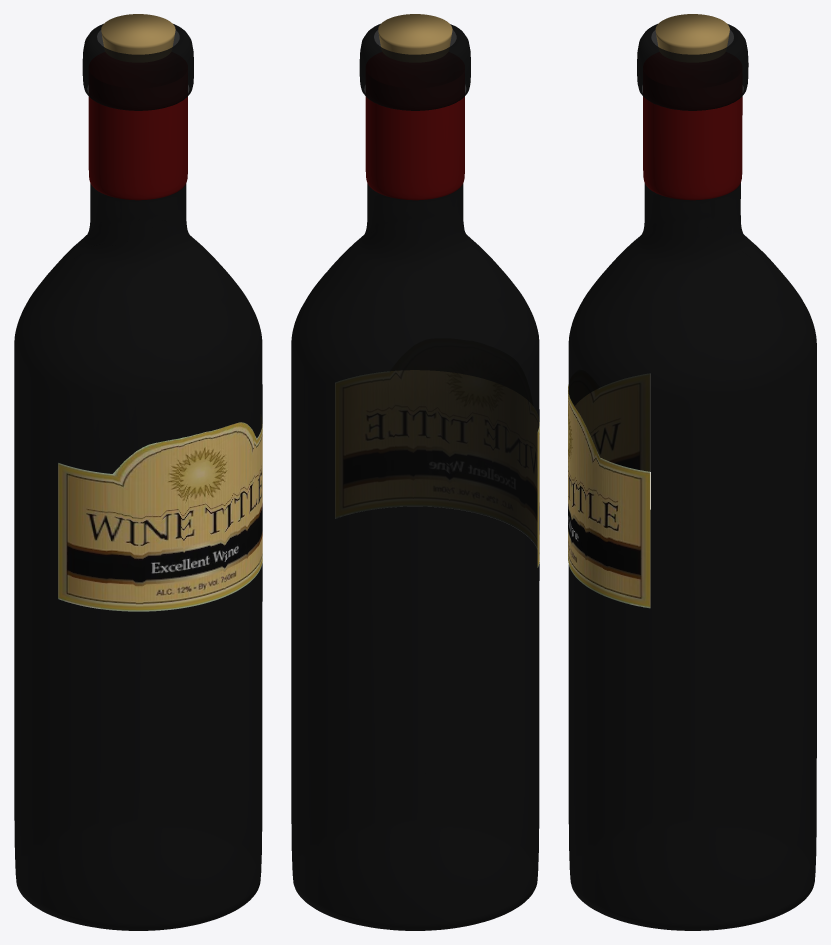
The model's file is wine_bottle.glb.
3 renders of one model, left to right at view 1: azimuth 30°, elevation 25°; view 2: azimuth 150°, elevation 25°; view 3: azimuth 270°, elevation 25°, orthographic.
Parts seen in each view (by area): view 1: Material_002-material, Material_001-material, Material_003-material, Material_005-material; view 2: Material_002-material, Material_001-material, Material_003-material, Material_005-material; view 3: Material_002-material, Material_001-material, Material_003-material, Material_005-material.
Part boxes in pixels (x1=…): Material_002-material: x1=14, y1=23, x2=262, y2=930; Material_001-material: x1=58, y1=417, x2=262, y2=611; Material_003-material: x1=88, y1=52, x2=187, y2=200; Material_005-material: x1=101, y1=14, x2=175, y2=61; Material_002-material: x1=291, y1=23, x2=539, y2=930; Material_001-material: x1=336, y1=370, x2=539, y2=567; Material_003-material: x1=365, y1=52, x2=464, y2=200; Material_005-material: x1=378, y1=14, x2=452, y2=61; Material_002-material: x1=568, y1=24, x2=816, y2=930; Material_001-material: x1=568, y1=374, x2=650, y2=608; Material_003-material: x1=643, y1=52, x2=742, y2=200; Material_005-material: x1=655, y1=14, x2=729, y2=61.
Bounding box in the file's own units: 1.74 × 6.55 × 1.74.
4 materials, 1 textured.
